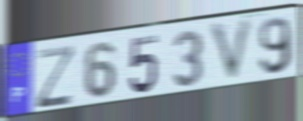3: (171, 26, 205, 90)
5: (128, 33, 161, 95)
6: (83, 39, 118, 101)
9: (257, 16, 293, 76)
V: (208, 15, 256, 87)
Z: (35, 42, 77, 111)
